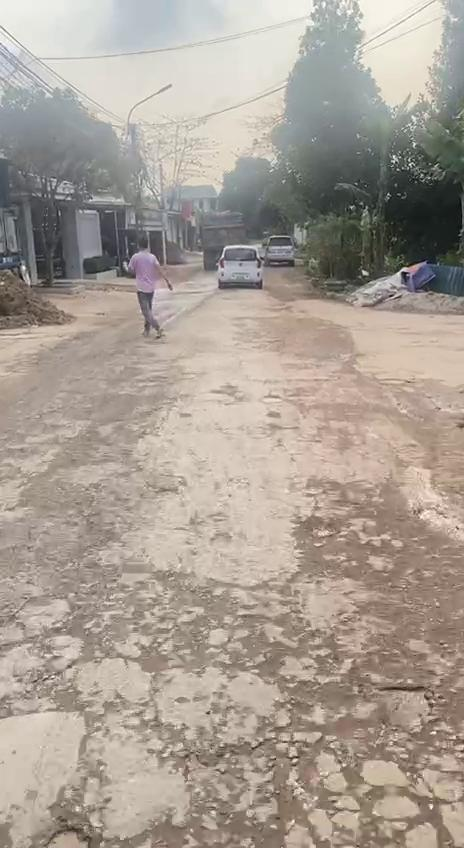pothole: (226, 741, 464, 848), (0, 668, 89, 724), (368, 679, 442, 741), (36, 820, 112, 848)
